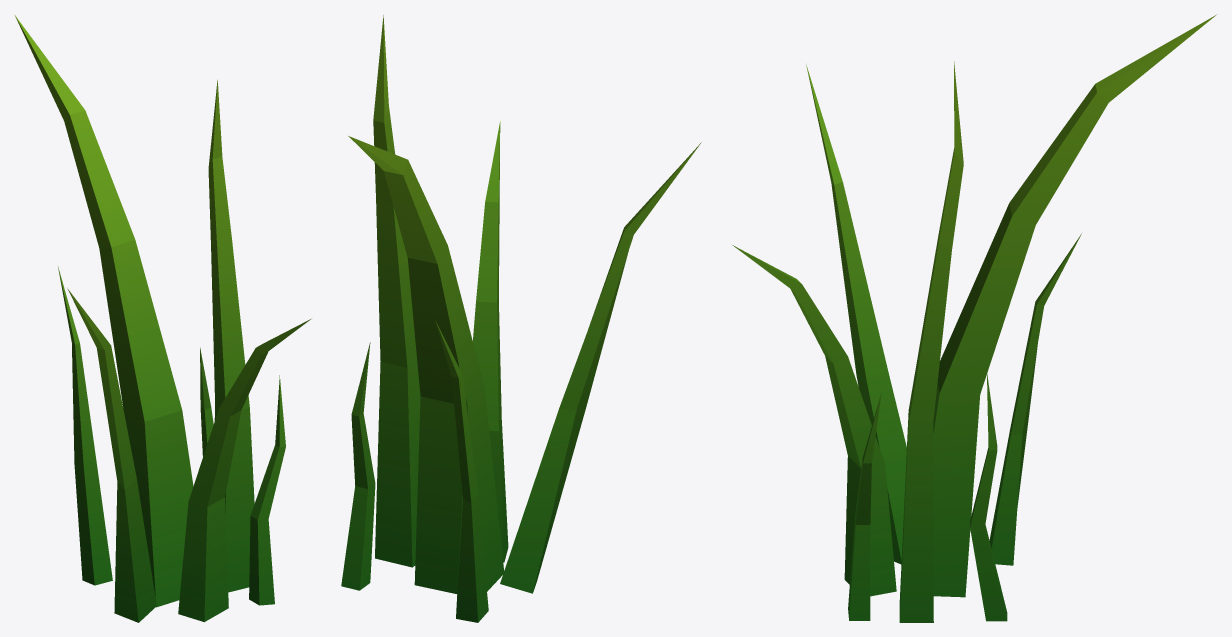
Rendered from Grass_02.fbx.
3 views of the same model, side by side, from view 1: azimuth 30°, elevation 25°; view 2: azimuth 150°, elevation 25°; view 3: azimuth 270°, elevation 25° (orthographic). The views are drawn at different scales.
Parts seen in each view (by area): view 1: Grass_02; view 2: Grass_02; view 3: Grass_02.
Part boxes in pixels (box(x1,y1,x2,y2)): Grass_02: box(15, 15, 310, 622); Grass_02: box(341, 15, 701, 622); Grass_02: box(732, 14, 1216, 622).
Size of the model in its own units: 31.22 by 60.15 by 47.49.
